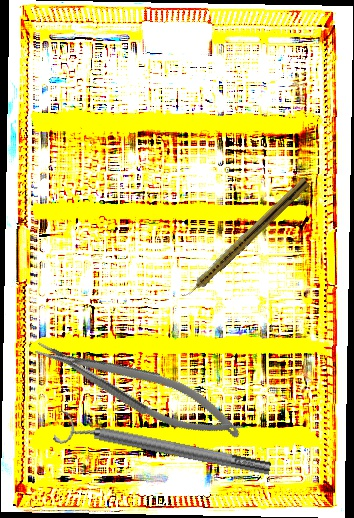Fixation Ring: (52, 406, 274, 489)
Handpiece: (178, 175, 311, 303)
Needle Holder: (29, 320, 250, 456)
